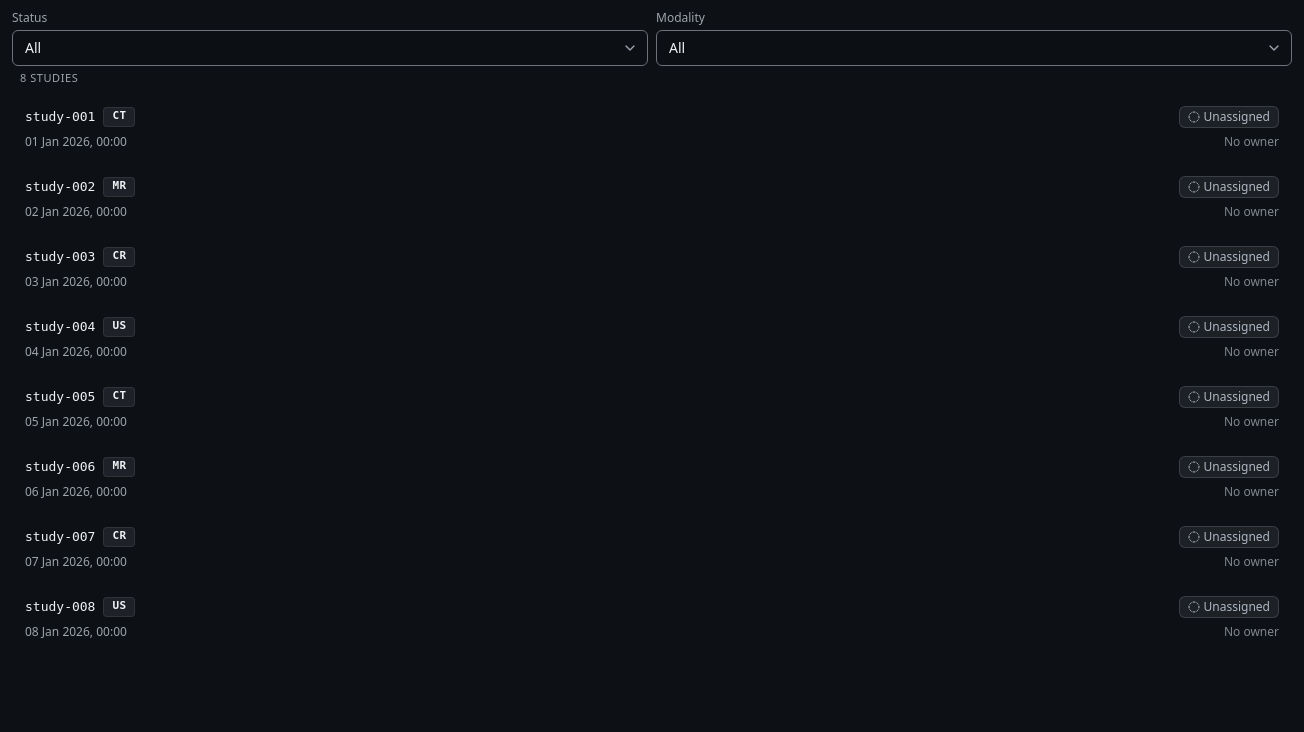
Test: Worklist › shows the empty state when the filter combination has no matches
expect the button with aria-label "Open study study-001" is shown: met, box left=12, top=94, right=1292, bottom=160
Step 1. Select "Completed" in the dropdown labelled "Status" → [330, 48], box left=12, top=30, right=648, bottom=66
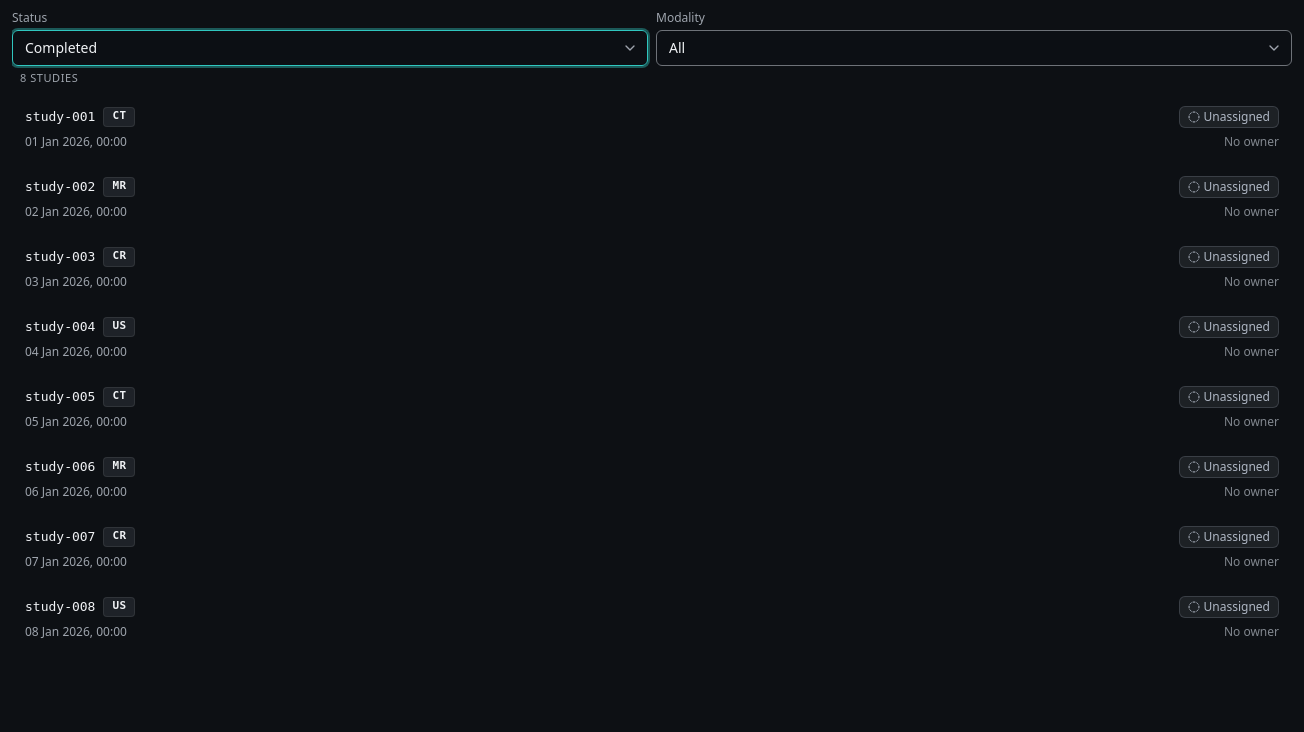
Step 2. Select "OT" in the dropdown labelled "Modality" → [974, 48], box left=656, top=30, right=1292, bottom=66
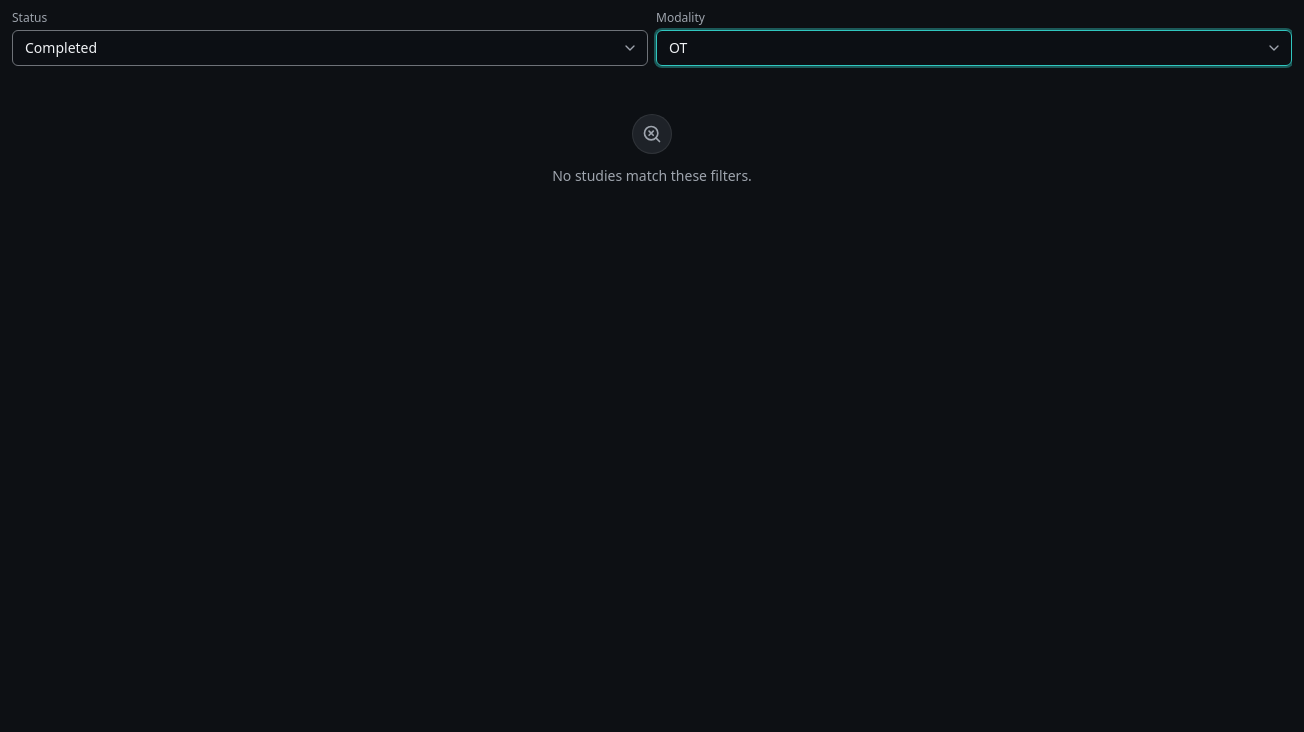
expect the text "No studies match these filters." is shown: met, box left=552, top=166, right=752, bottom=186
